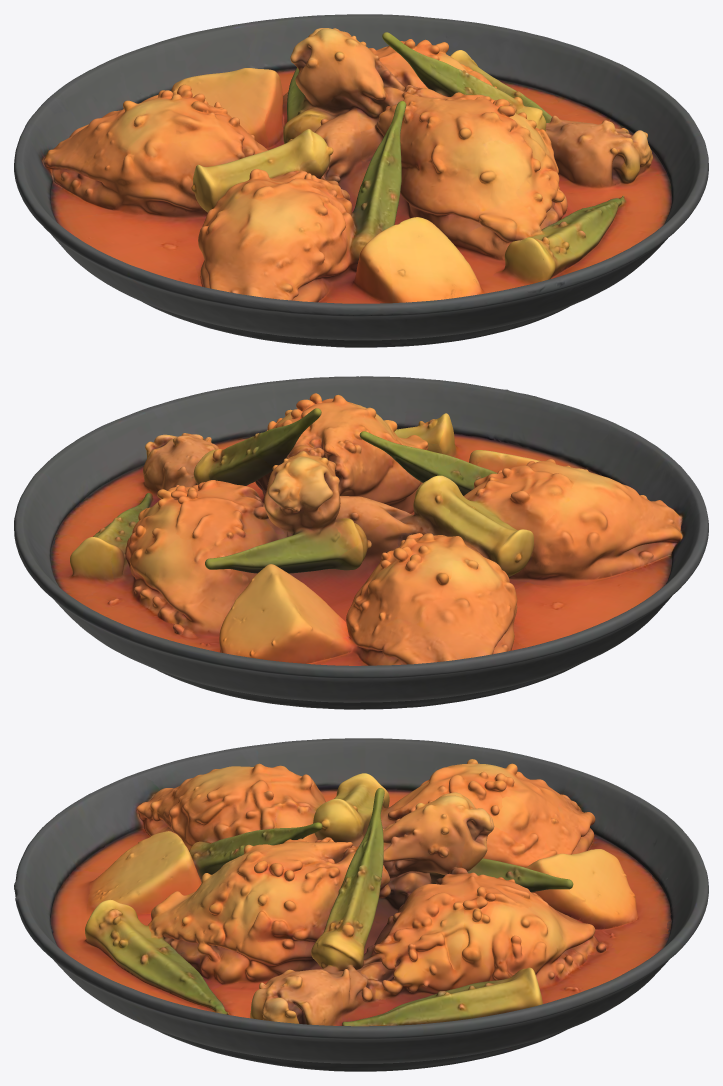
Rendered from Chicken Qourma.glb.
3 renders of one model, top to bottom at view 1: azimuth 30°, elevation 25°; view 2: azimuth 150°, elevation 25°; view 3: azimuth 270°, elevation 25°, orthographic.
Parts seen in each view (by area): view 1: tripo_node_cb9db57b-61f5-4666-ab3b-f91cc592e8a8; view 2: tripo_node_cb9db57b-61f5-4666-ab3b-f91cc592e8a8; view 3: tripo_node_cb9db57b-61f5-4666-ab3b-f91cc592e8a8.
Boxes of the visible parts, box(x1,y1,x2,y2) form: tripo_node_cb9db57b-61f5-4666-ab3b-f91cc592e8a8: box(14, 14, 708, 347); tripo_node_cb9db57b-61f5-4666-ab3b-f91cc592e8a8: box(14, 376, 708, 709); tripo_node_cb9db57b-61f5-4666-ab3b-f91cc592e8a8: box(14, 738, 708, 1071).
Size of the model in its own units: 0.9964 by 0.2953 by 0.9999.
Materials: 1 (1 with a texture image).
